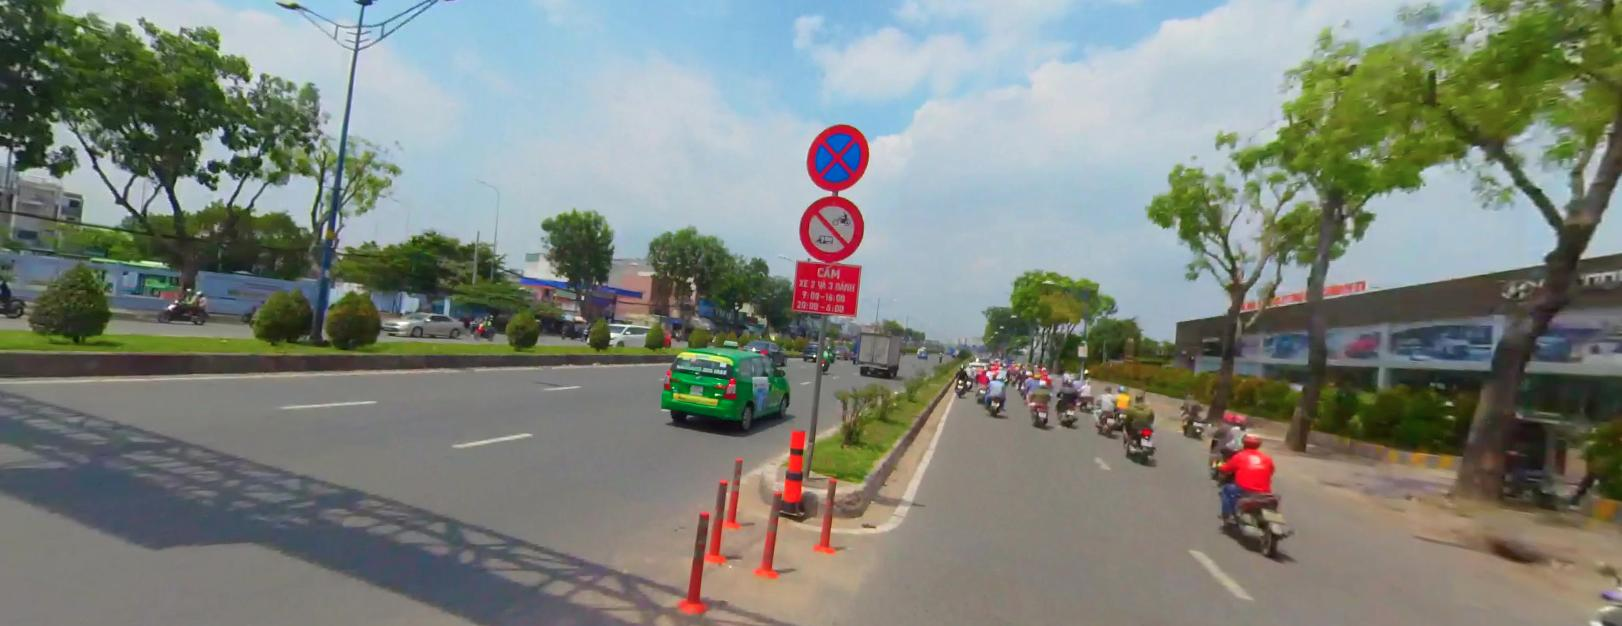Cam con lai: (794, 191, 865, 261)
Cam dung va do: (803, 122, 869, 191)
